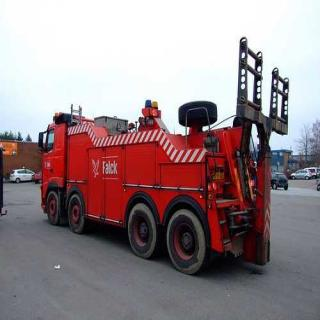Towing_truck: (36, 35, 290, 276)
